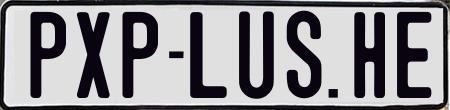E: (397, 12, 437, 104)
H: (352, 11, 387, 100)
L: (187, 11, 225, 98)
P: (29, 12, 68, 98), (122, 12, 160, 100)
S: (286, 8, 324, 101)
U: (237, 8, 273, 96)
X: (76, 10, 110, 99)
